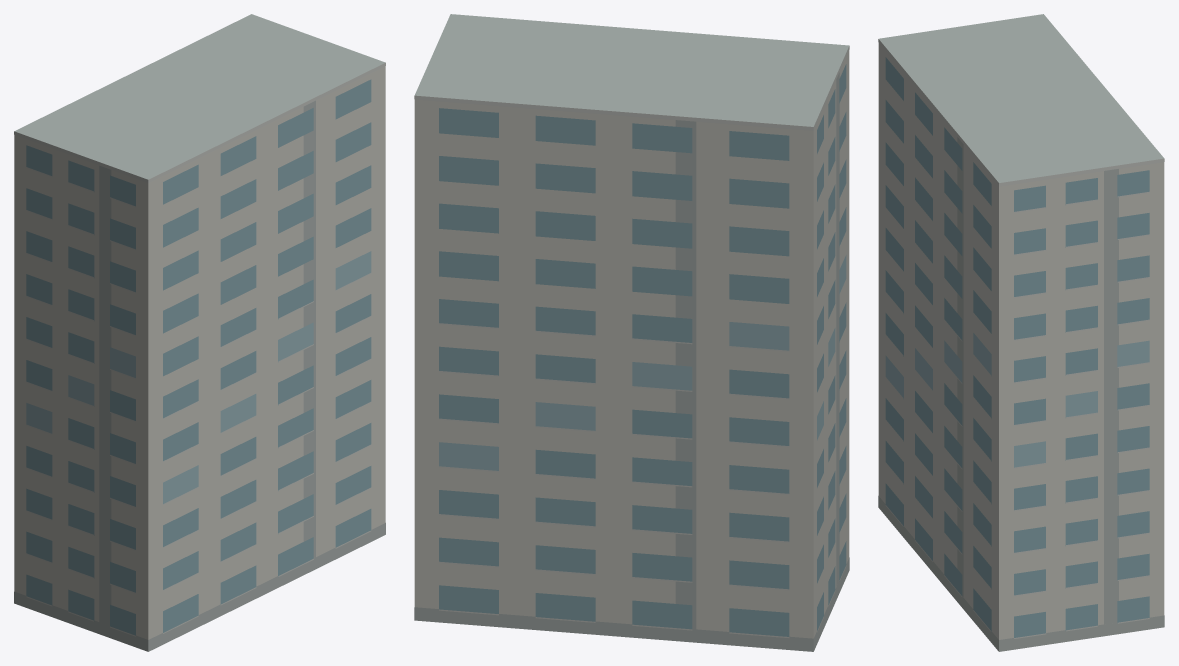
The model's file is residential-6231ce18-19e1-4b42-91b7-effd19869429.glb.
The picture shows the model from 3 angles, left to right: view 1: azimuth 30°, elevation 25°; view 2: azimuth 150°, elevation 25°; view 3: azimuth 270°, elevation 25°; orthographic projection. The views are drawn at different scales.
Parts seen in each view (by area): view 1: residential-6231ce18-19e1-4b42-91b7-effd19869429.tmp; view 2: residential-6231ce18-19e1-4b42-91b7-effd19869429.tmp; view 3: residential-6231ce18-19e1-4b42-91b7-effd19869429.tmp.
Part boxes in pixels (x1=…): residential-6231ce18-19e1-4b42-91b7-effd19869429.tmp: x1=14, y1=14, x2=385, y2=651; residential-6231ce18-19e1-4b42-91b7-effd19869429.tmp: x1=414, y1=14, x2=849, y2=651; residential-6231ce18-19e1-4b42-91b7-effd19869429.tmp: x1=878, y1=14, x2=1164, y2=651.
Size of the model in its own units: 25.54 by 33 by 18.26.
